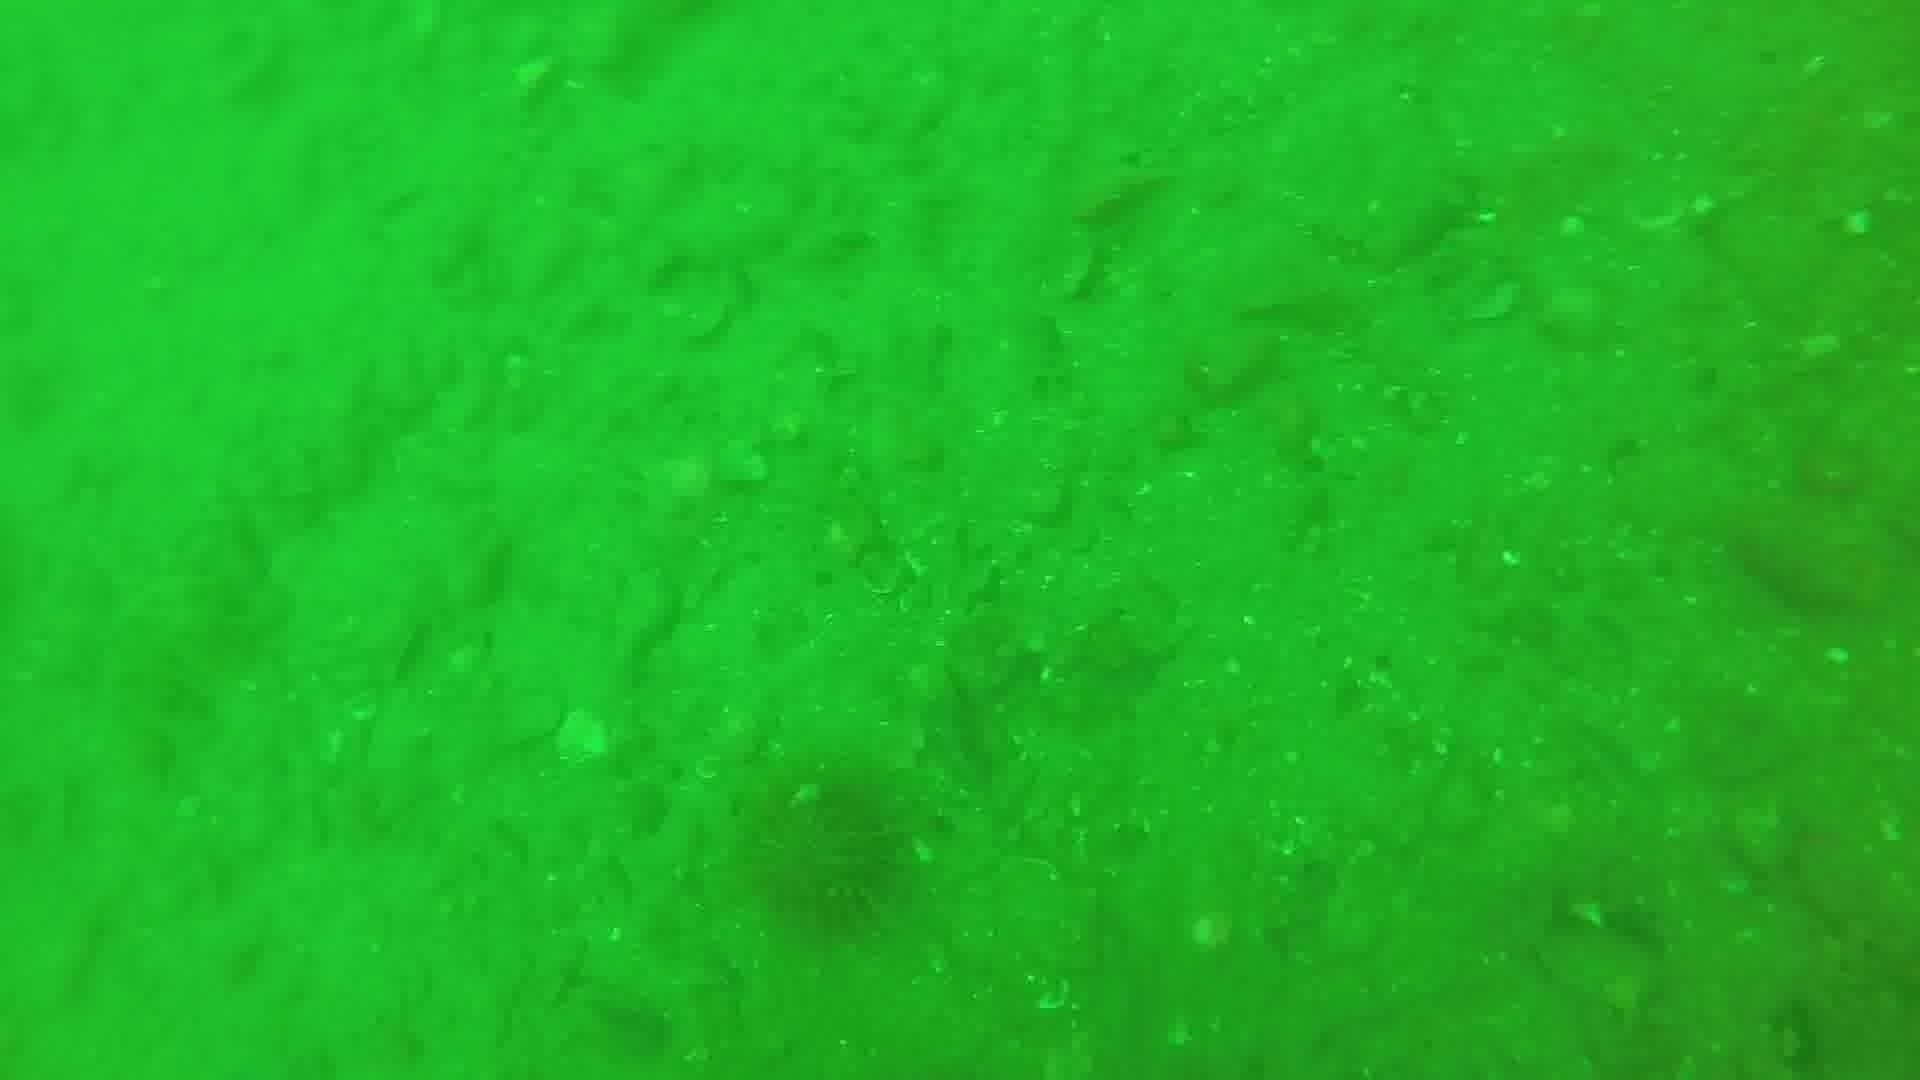echinus: (733, 757, 919, 943)
